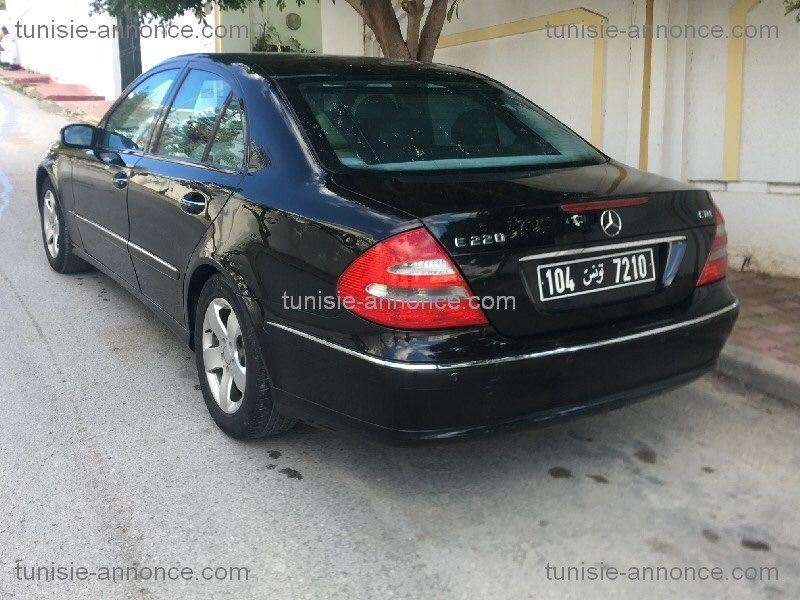LP: (537, 247, 656, 301)
